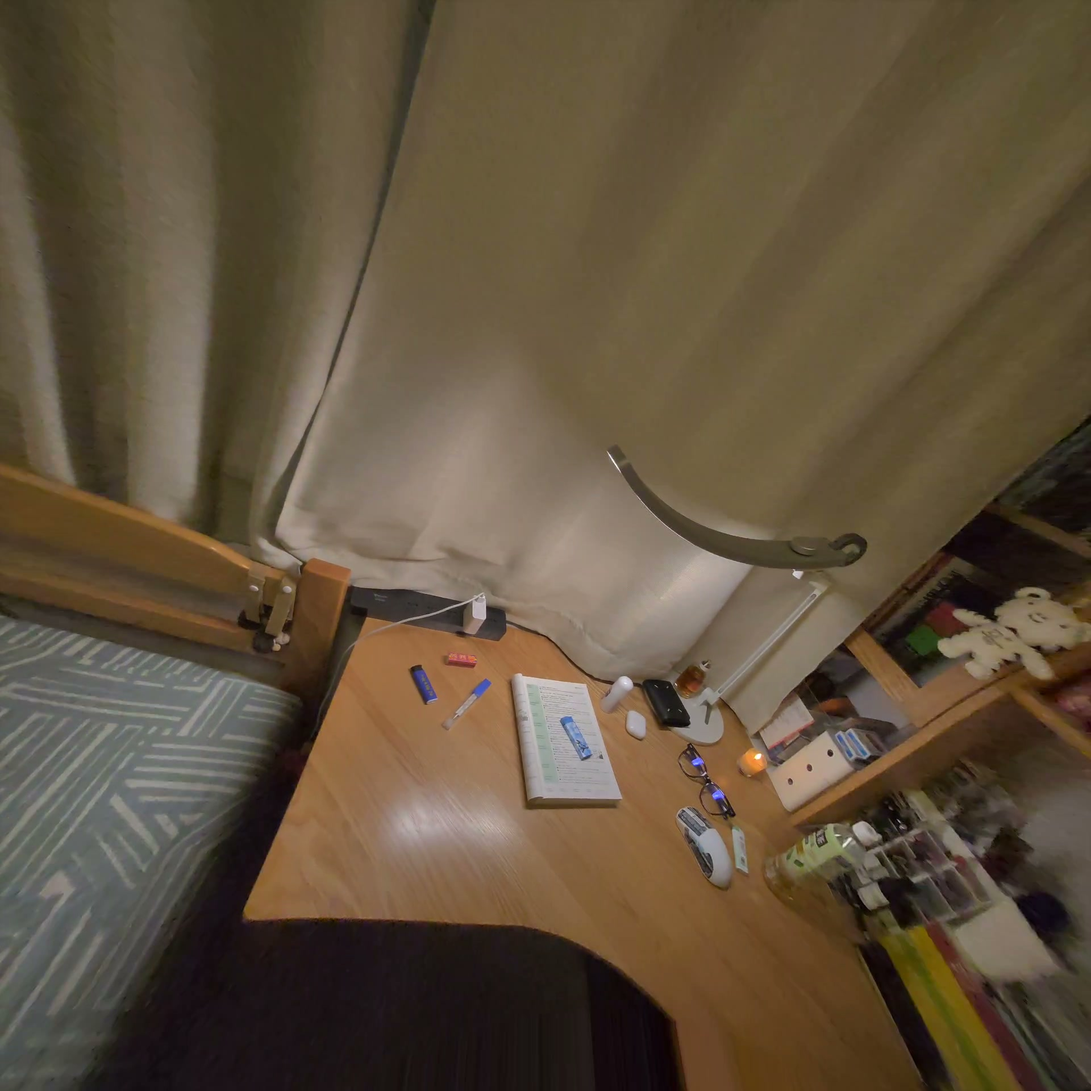lighter: (561, 717, 592, 760)
